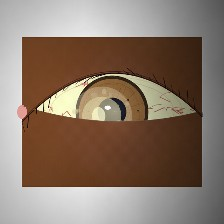corneal_ulcer: (70, 90, 133, 141)
